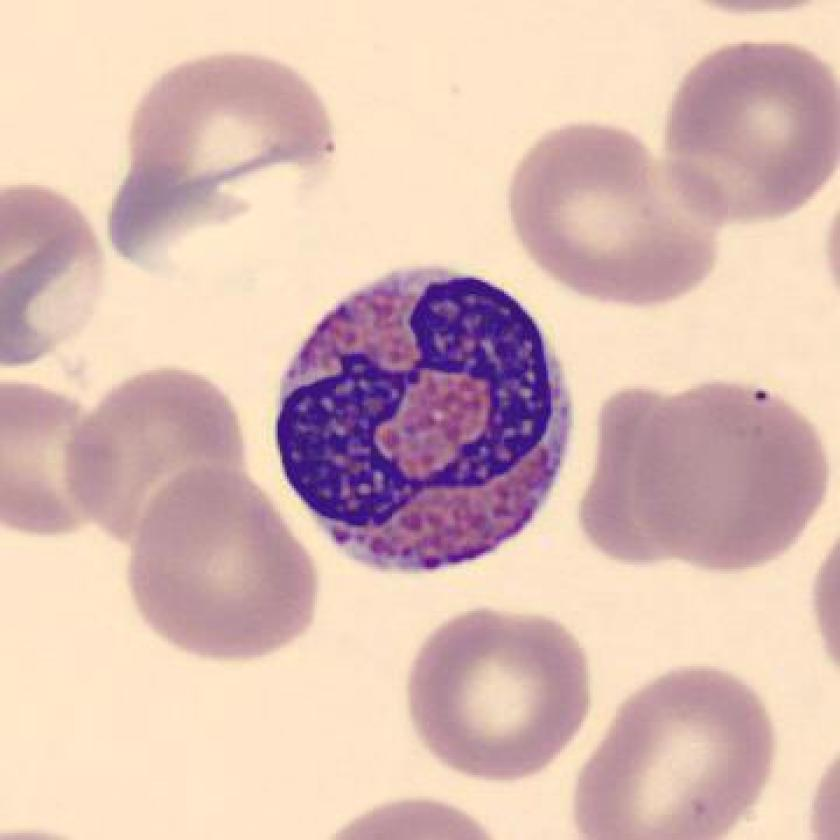eosinophil: (270, 253, 585, 598)
